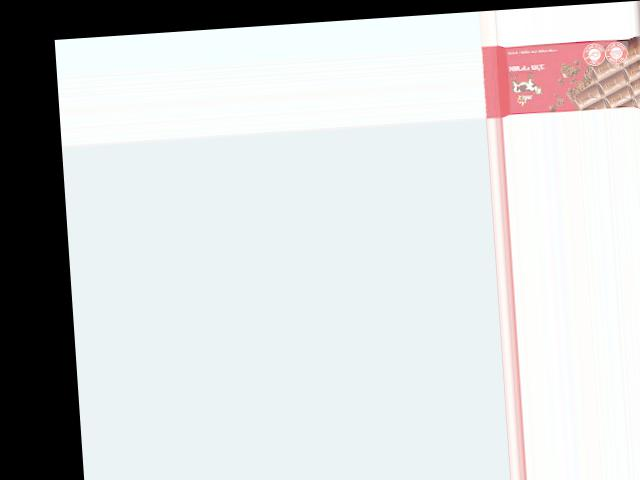chocolate: (483, 34, 640, 117)
